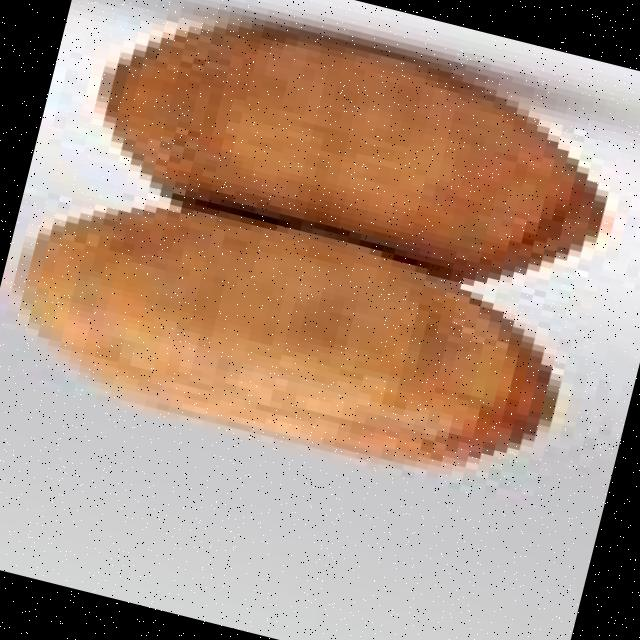overripe: (0, 166, 581, 513), (81, 0, 640, 301)
